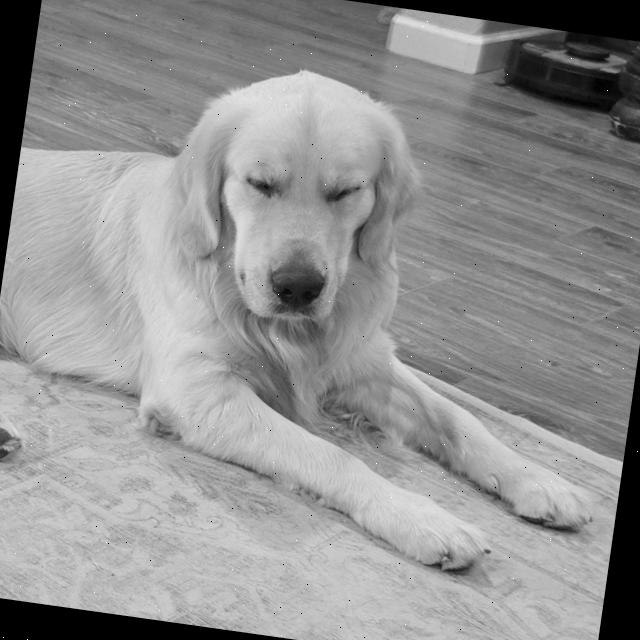golden_retriever_dog: (147, 46, 448, 374)
